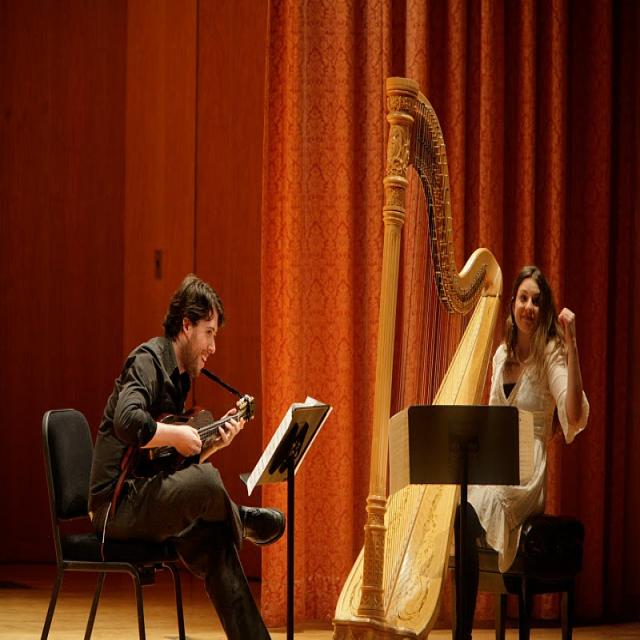guitar: (135, 391, 261, 480)
harp: (326, 77, 504, 640)
